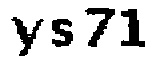1: (117, 7, 147, 50)
7: (81, 6, 117, 48)
s: (48, 17, 76, 48)
y: (9, 13, 45, 57)
